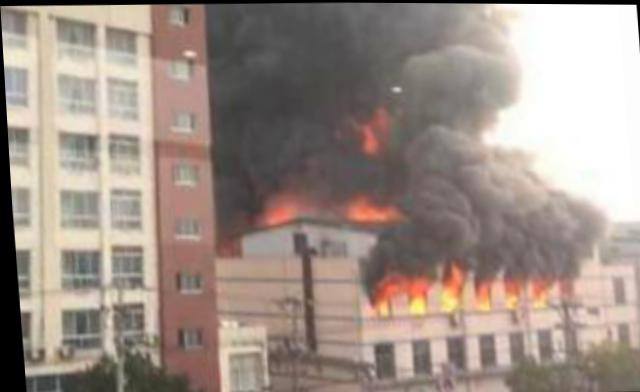fire: (341, 199, 403, 222), (439, 266, 463, 307), (404, 278, 426, 312), (359, 121, 384, 150), (262, 201, 290, 220), (474, 271, 488, 307), (503, 275, 519, 304), (374, 282, 388, 314), (529, 281, 547, 304)
